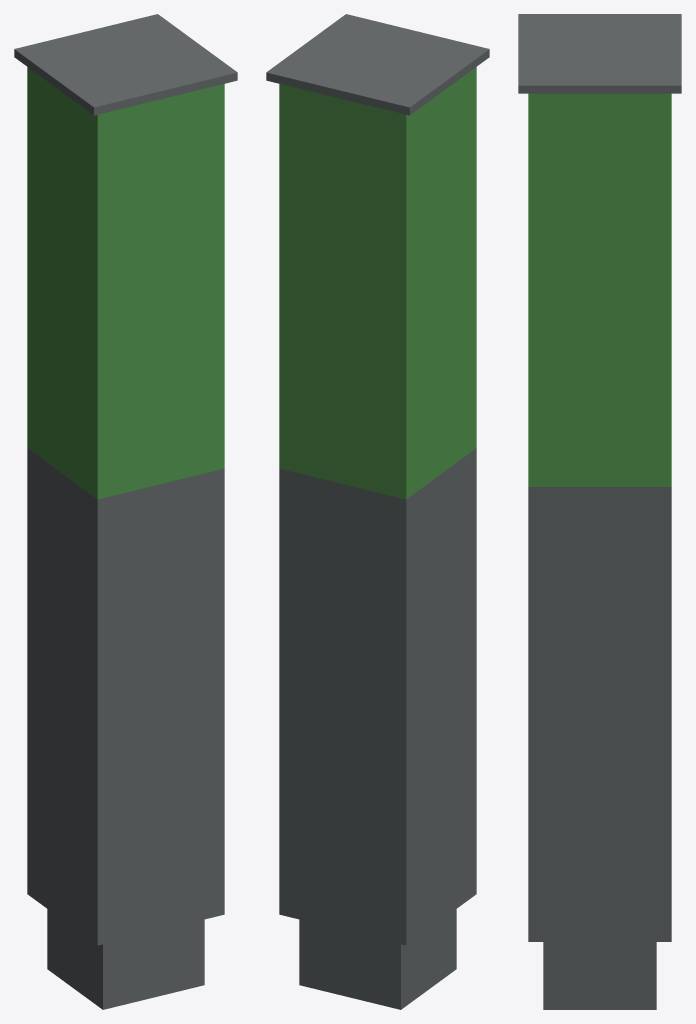
The model's file is SM_column_03.fbx.
3 renders of one model, left to right at view 1: azimuth 30°, elevation 25°; view 2: azimuth 150°, elevation 25°; view 3: azimuth 270°, elevation 25°, orthographic. The views are drawn at different scales.
Parts seen in each view (by area): view 1: column_03; view 2: column_03; view 3: column_03.
Boxes of the visible parts, x1,y1,x2,y2 form: column_03: (14,14,237,1009); column_03: (266,14,489,1009); column_03: (518,14,681,1009).
Bounding box in the file's own units: 111 × 675 × 107.
